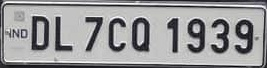character: (53, 13, 75, 52), (130, 14, 151, 54), (83, 14, 104, 52), (209, 17, 230, 55), (234, 17, 255, 55), (186, 16, 207, 53), (30, 13, 50, 51), (107, 16, 127, 52), (166, 16, 180, 53)
